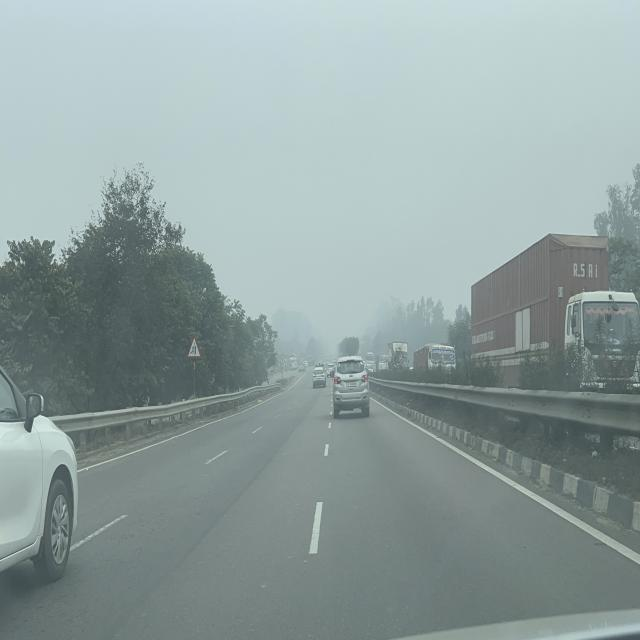WARNING: (187, 335, 202, 359)
